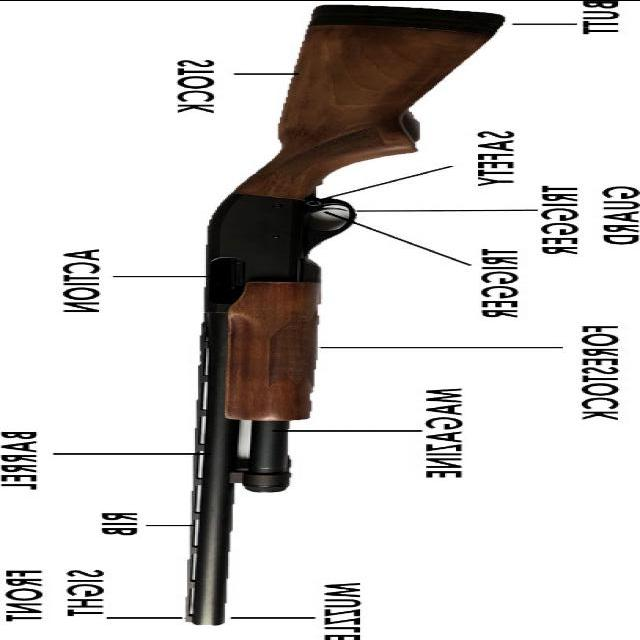shotgun: (177, 2, 609, 640)
